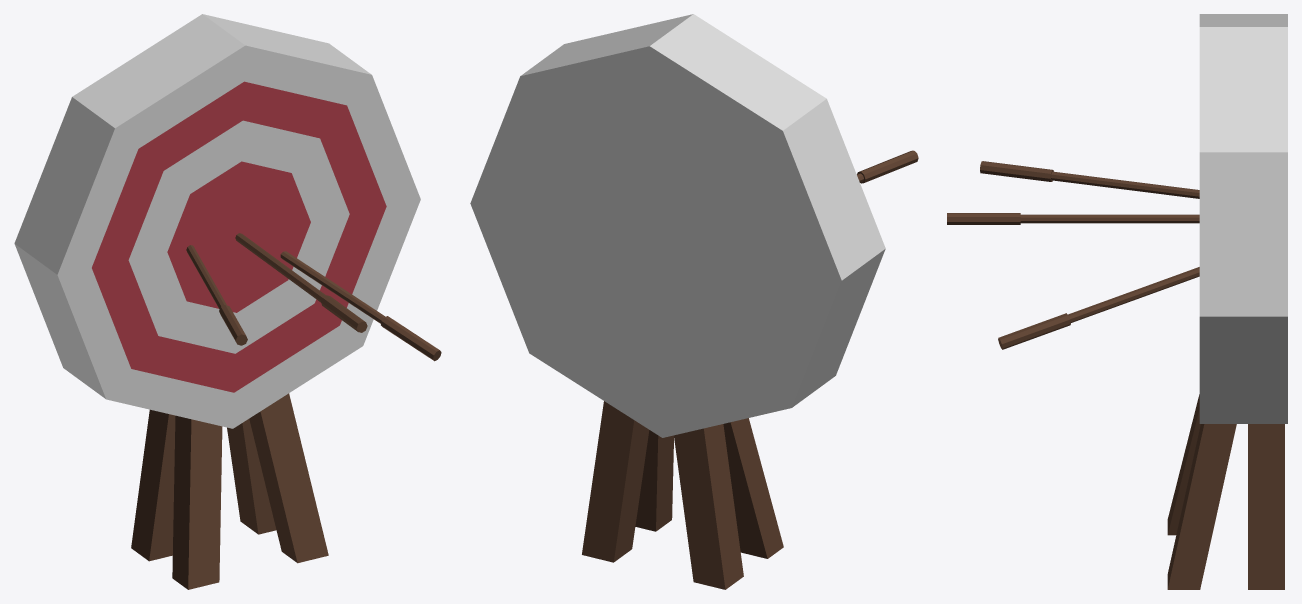
File: Target.glb
3 views of the same model, side by side, from view 1: azimuth 30°, elevation 25°; view 2: azimuth 150°, elevation 25°; view 3: azimuth 270°, elevation 25° (orthographic). The views are drawn at different scales.
Visible parts, largest first — view 1: Cylinder.003; view 2: Cylinder.003; view 3: Cylinder.003.
Part boxes in pixels (x1,y1,x2,y2): Cylinder.003: (14,14,441,589); Cylinder.003: (470,14,918,589); Cylinder.003: (947,14,1287,589).
Bounding box in the file's own units: 0.5264 × 0.7132 × 0.4164.
